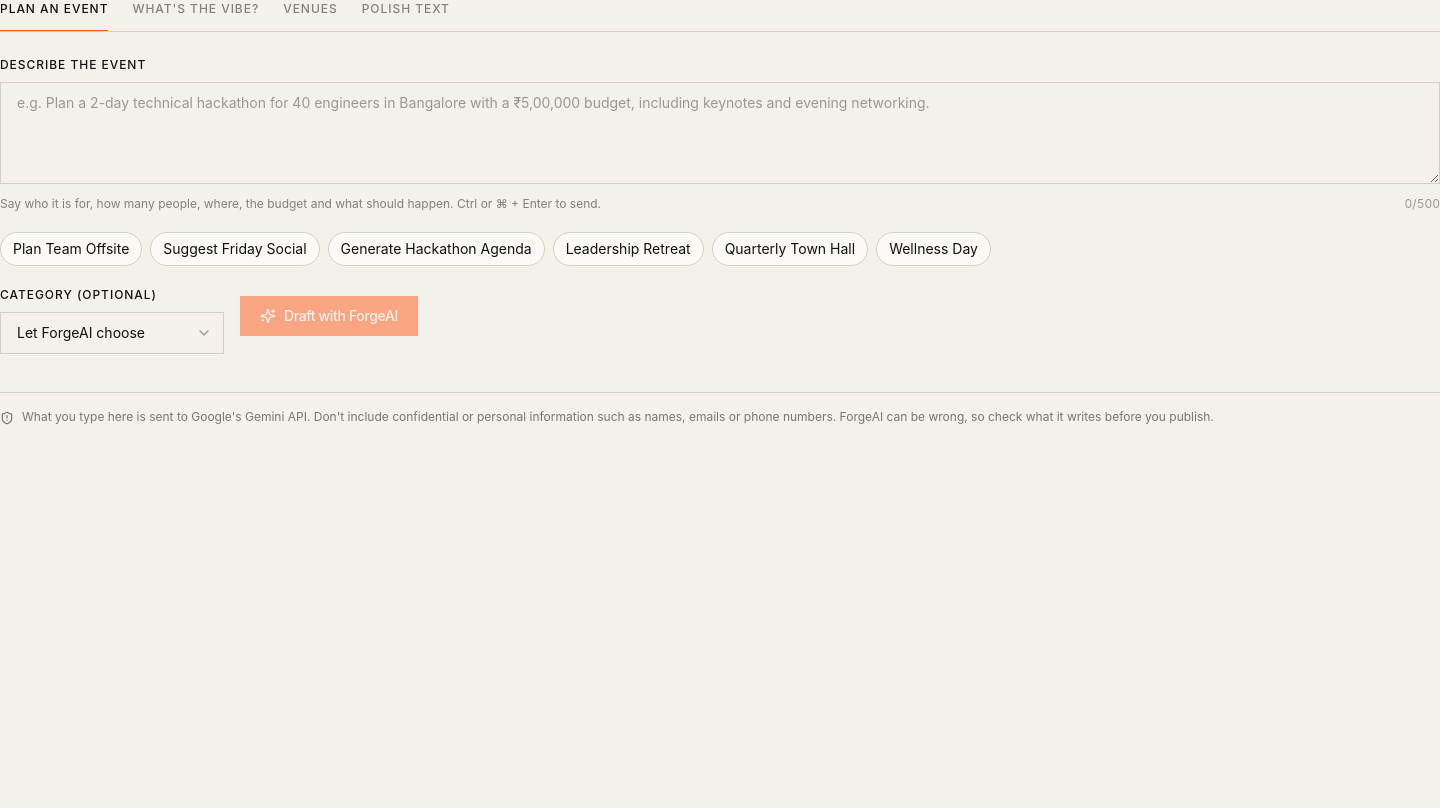
Test case: ForgeAiPanel › Plan an event › includes the chosen category
The image size is (1440, 808).
Type "A workshop" into the text box labelled "Describe the event". click: [720, 133]
box: 0,82 -> 1439,184
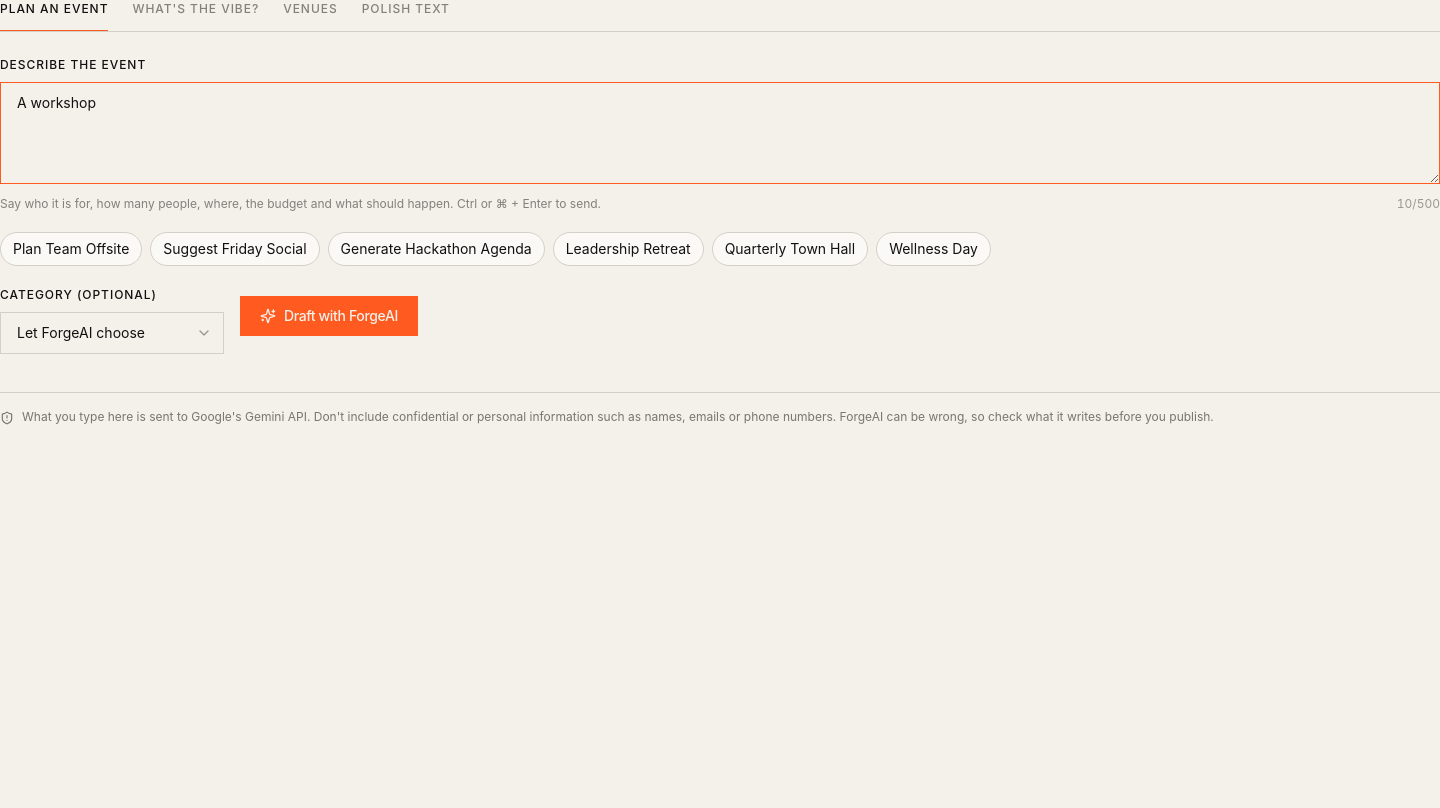
Select "Workshop" in the dropdown labelled "Category (optional)". click: [112, 333]
box: 0,312 -> 224,354
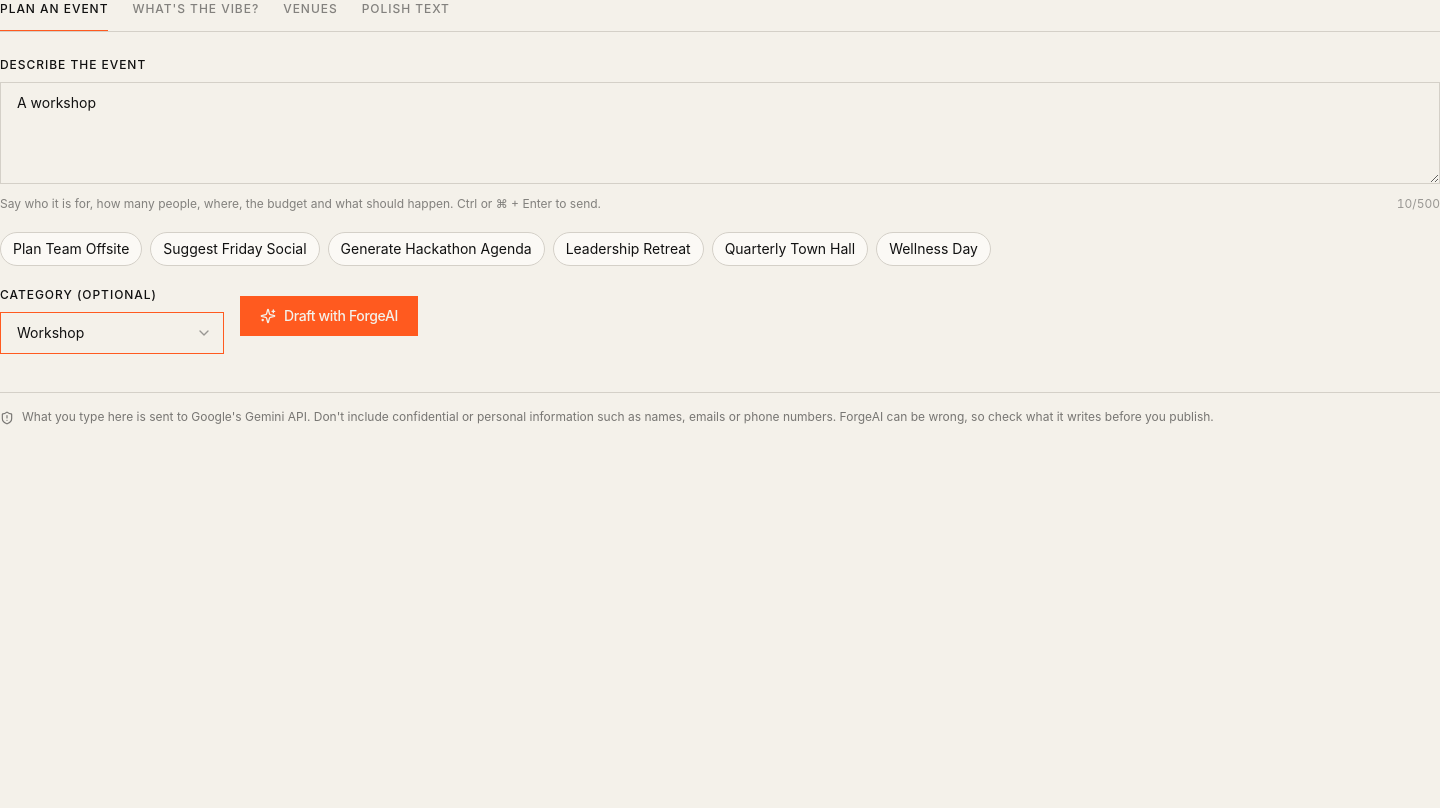
Click the button "Draft with ForgeAI". click: [329, 316]
box: 240,296 -> 418,336
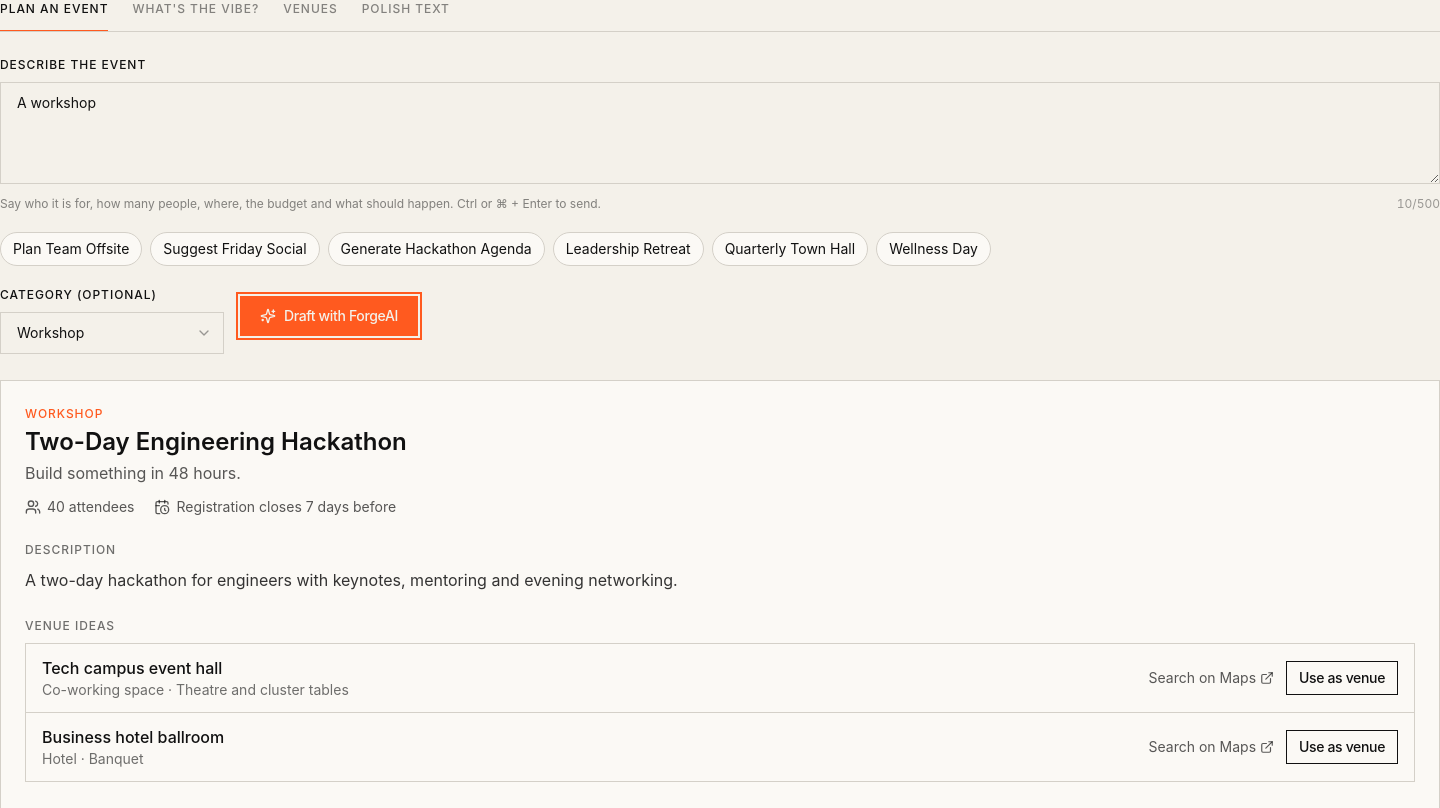
Now the heading "Two-Day Engineering Hackathon" is shown, box 25,427 -> 407,456
